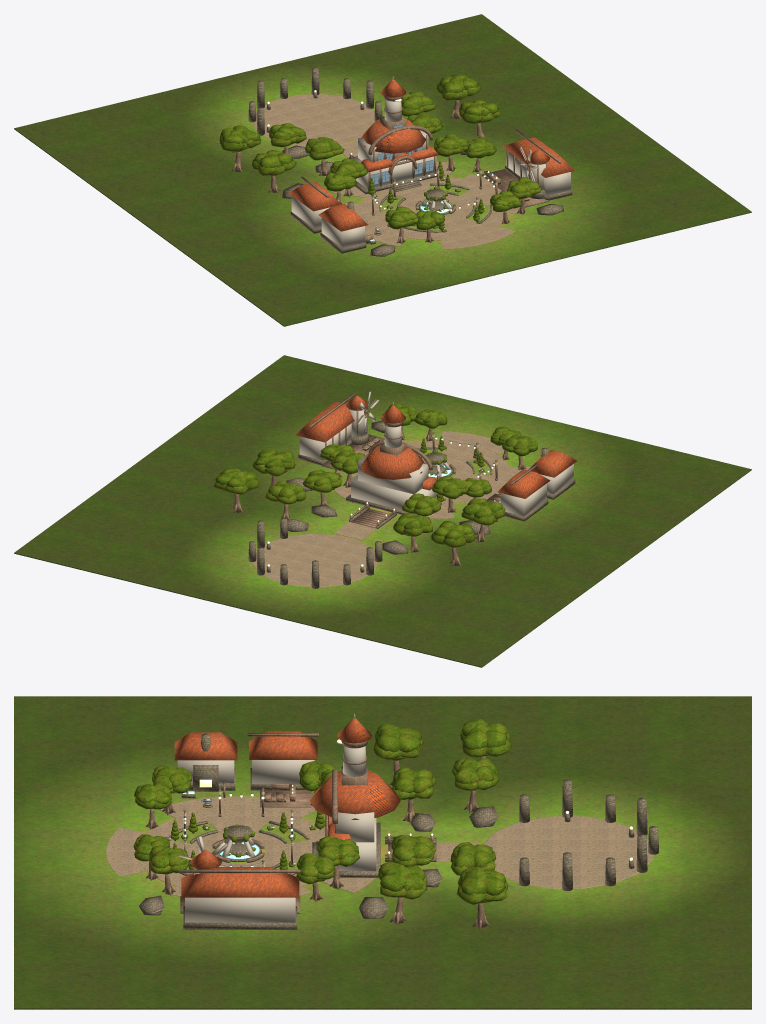
Rendered from Lorencia_Town.glb.
The picture shows the model from 3 angles, top to bottom: view 1: azimuth 30°, elevation 25°; view 2: azimuth 150°, elevation 25°; view 3: azimuth 270°, elevation 25°; orthographic projection. The views are drawn at different scales.
Visible parts, largest first — view 1: Lorencia_Rift_Terrain, Lorencia_Mossy_Flagstones, Lorencia_Foliage_Lit, Lorencia_Stone_Body, Lorencia_Foliage_Shade, Lorencia_Terracotta, Lorencia_Stone_Wall, Lorencia_Walnut_Wood, Lorencia_Mansard_Roofs; view 2: Lorencia_Rift_Terrain, Lorencia_Mossy_Flagstones, Lorencia_Foliage_Lit, Lorencia_Stone_Wall, Lorencia_Stone_Body, Lorencia_Foliage_Shade, Lorencia_Terracotta, Lorencia_Walnut_Wood, Lorencia_Mansard_Roofs; view 3: Lorencia_Rift_Terrain, Lorencia_Mossy_Flagstones, Lorencia_Foliage_Lit, Lorencia_Stone_Body, Lorencia_Terracotta, Lorencia_Stone_Wall, Lorencia_Foliage_Shade, Lorencia_Walnut_Wood, Lorencia_Mansard_Roofs.
Part boxes in pixels (x1=…): Lorencia_Rift_Terrain: x1=14, y1=14, x2=751, y2=326; Lorencia_Mossy_Flagstones: x1=253, y1=94, x2=519, y2=249; Lorencia_Foliage_Lit: x1=221, y1=74, x2=540, y2=226; Lorencia_Stone_Body: x1=248, y1=67, x2=572, y2=256; Lorencia_Foliage_Shade: x1=219, y1=82, x2=541, y2=232; Lorencia_Terracotta: x1=318, y1=79, x2=574, y2=231; Lorencia_Stone_Wall: x1=291, y1=100, x2=570, y2=248; Lorencia_Walnut_Wood: x1=231, y1=96, x2=561, y2=244; Lorencia_Mansard_Roofs: x1=289, y1=182, x2=341, y2=211; Lorencia_Rift_Terrain: x1=14, y1=355, x2=751, y2=667; Lorencia_Mossy_Flagstones: x1=252, y1=431, x2=531, y2=587; Lorencia_Foliage_Lit: x1=215, y1=403, x2=536, y2=540; Lorencia_Stone_Wall: x1=299, y1=391, x2=573, y2=516; Lorencia_Stone_Body: x1=248, y1=421, x2=575, y2=588; Lorencia_Foliage_Shade: x1=213, y1=410, x2=537, y2=548; Lorencia_Terracotta: x1=296, y1=395, x2=576, y2=490; Lorencia_Walnut_Wood: x1=232, y1=391, x2=537, y2=566; Lorencia_Mansard_Roofs: x1=497, y1=469, x2=550, y2=498; Lorencia_Rift_Terrain: x1=14, y1=696, x2=751, y2=1009; Lorencia_Mossy_Flagstones: x1=106, y1=796, x2=652, y2=896; Lorencia_Foliage_Lit: x1=135, y1=719, x2=507, y2=895; Lorencia_Stone_Body: x1=139, y1=733, x2=658, y2=929; Lorencia_Terracotta: x1=174, y1=718, x2=400, y2=897; Lorencia_Stone_Wall: x1=177, y1=746, x2=376, y2=922; Lorencia_Foliage_Shade: x1=133, y1=729, x2=511, y2=904; Lorencia_Walnut_Wood: x1=145, y1=733, x2=490, y2=928; Lorencia_Mansard_Roofs: x1=249, y1=731, x2=317, y2=759.
Size of the model in its own units: 120 by 26 by 120.
17 materials, 9 textured.
